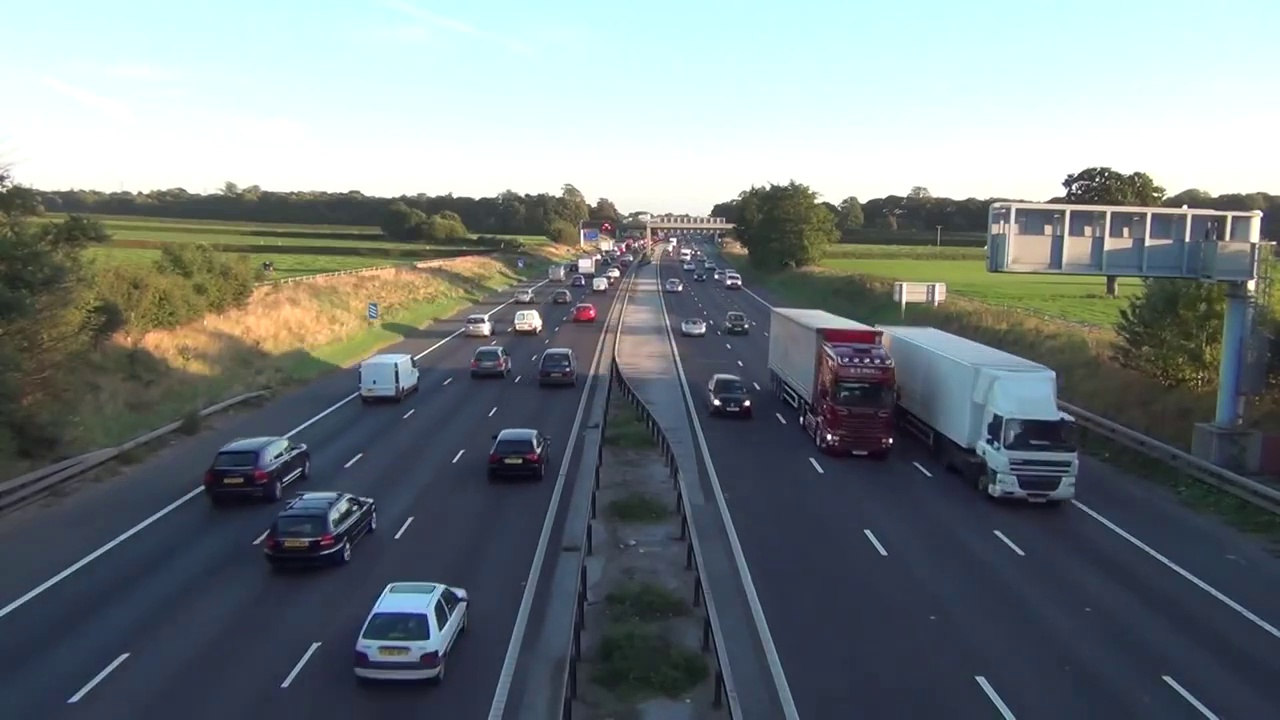bus: (353, 583, 469, 685), (267, 494, 377, 570), (203, 438, 311, 499), (487, 429, 549, 479), (705, 373, 752, 420), (538, 348, 575, 385), (469, 346, 512, 377), (466, 314, 493, 337), (724, 311, 747, 335), (679, 317, 706, 336), (571, 303, 595, 321), (514, 290, 535, 303), (664, 278, 682, 292), (553, 290, 572, 303)
lorry: (358, 354, 419, 400), (514, 311, 543, 333), (724, 275, 742, 289), (592, 277, 608, 292)
